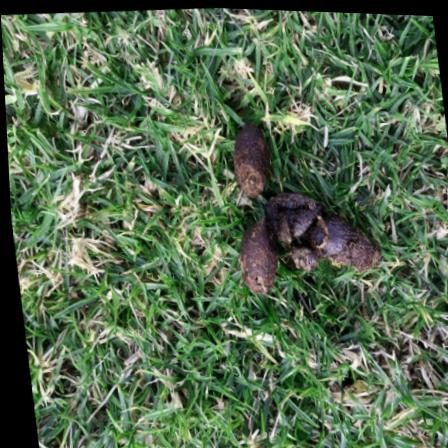dog-poop: (221, 117, 378, 291)
